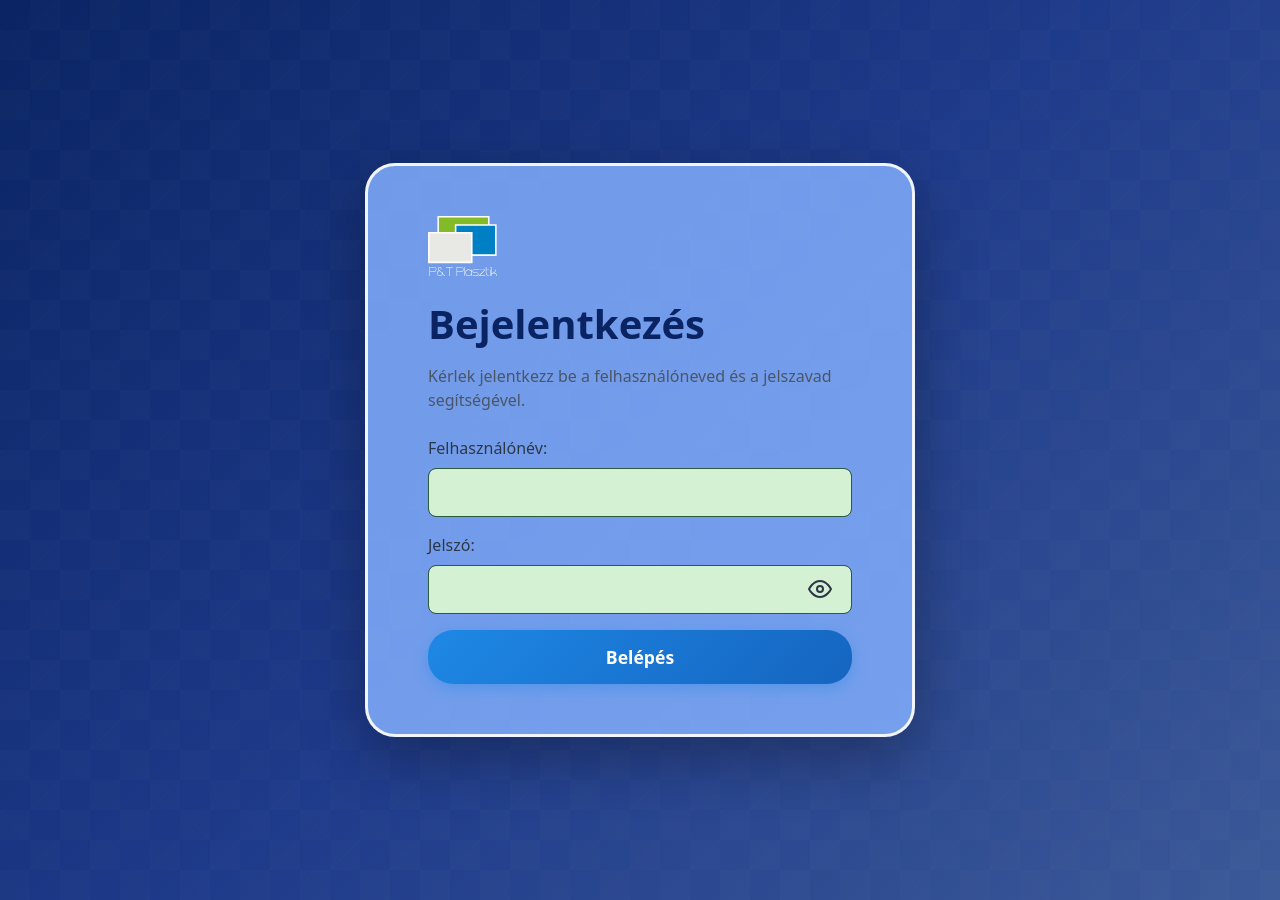
Test: Login Component › Form Submission › should display error message on failed login
The width and height of the screenshot is (1280, 900).
Type "wronguser" into the field labelled "Felhasználónév:".
click(640, 492); type("wronguser")  # box [428, 468, 852, 517]
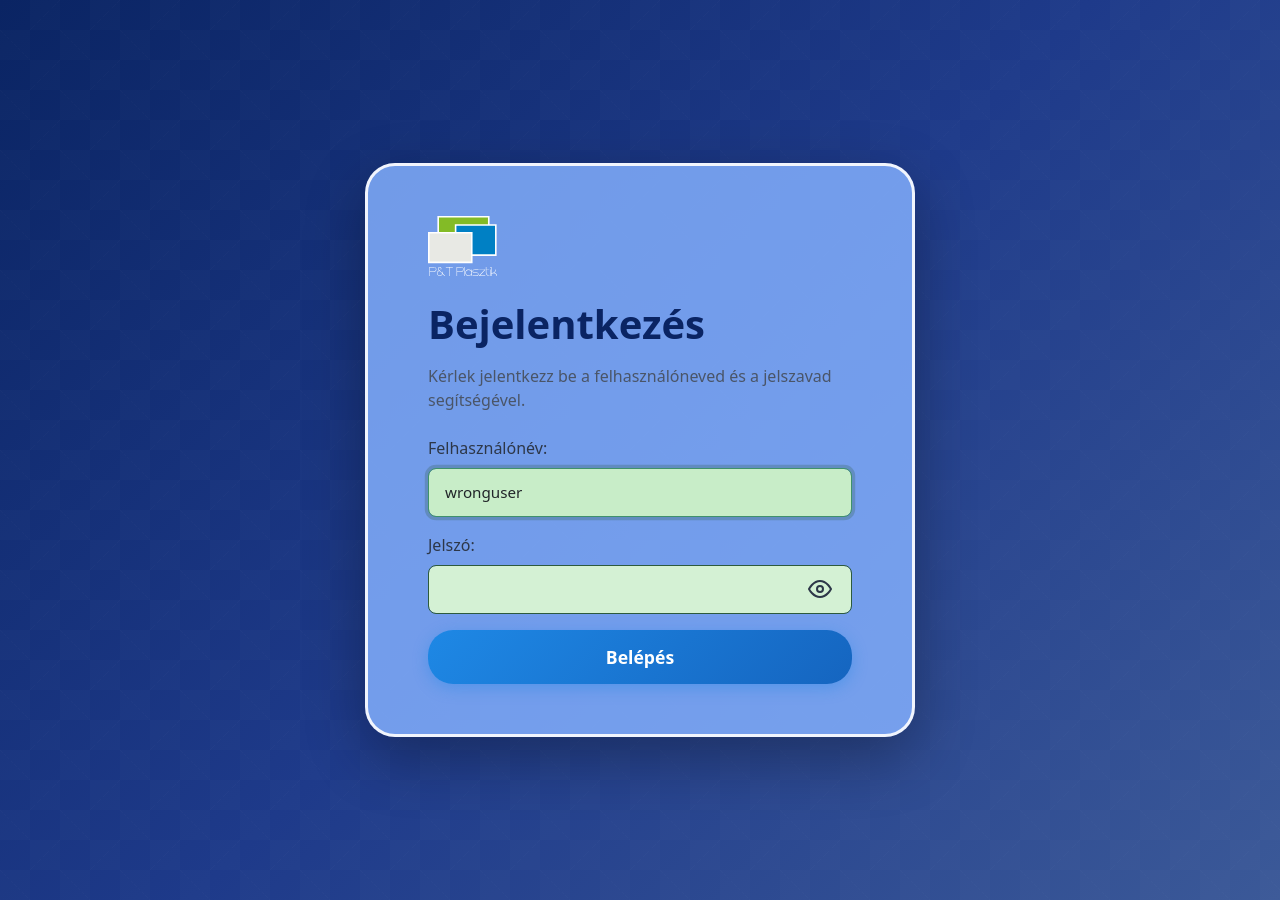
Type "WrongPassword" into the password field labelled "Jelszó:".
click(640, 589); type("WrongPassword")  # box [428, 565, 852, 614]
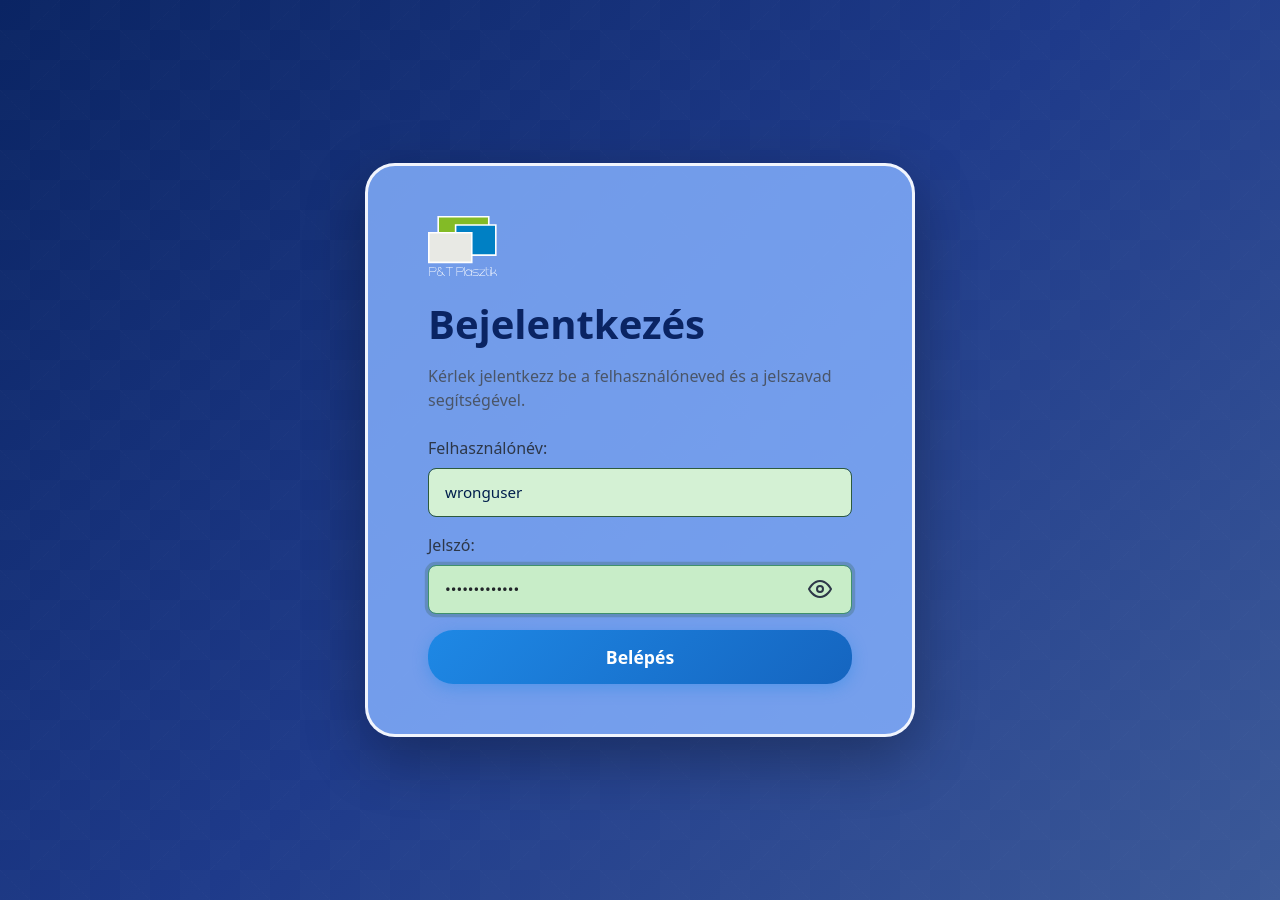
Click the button "Belépés".
click(640, 657)  # box [428, 630, 852, 684]
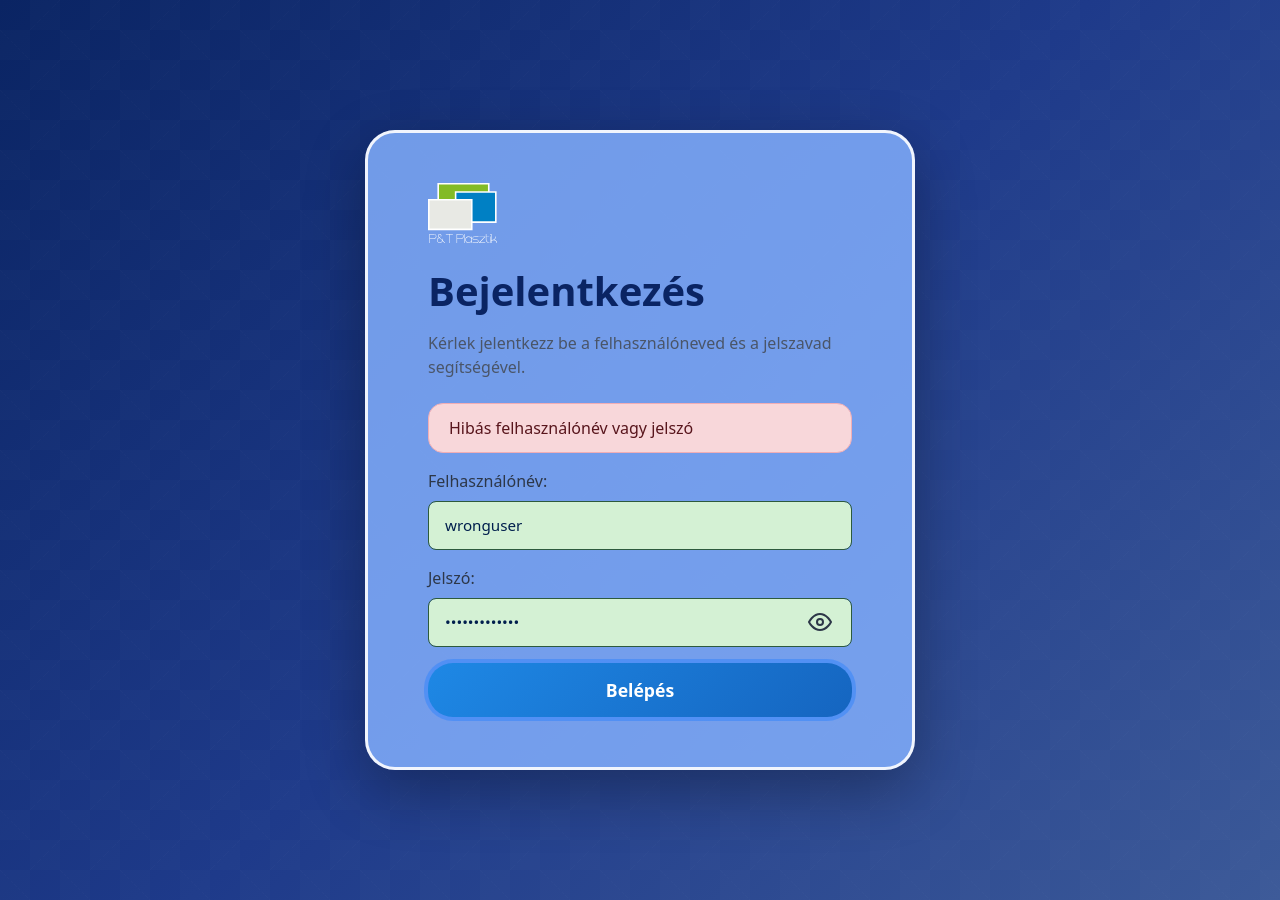
Now the text "Hibás felhasználónév vagy jelszó" is shown, box [428, 403, 852, 453]
